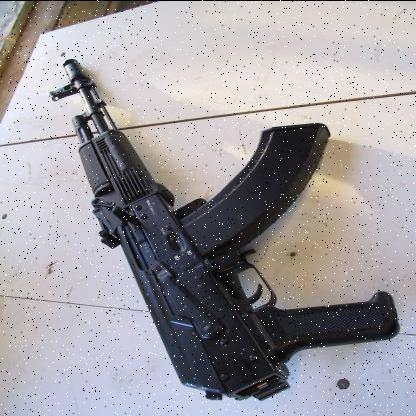rifle: (44, 32, 402, 402)
